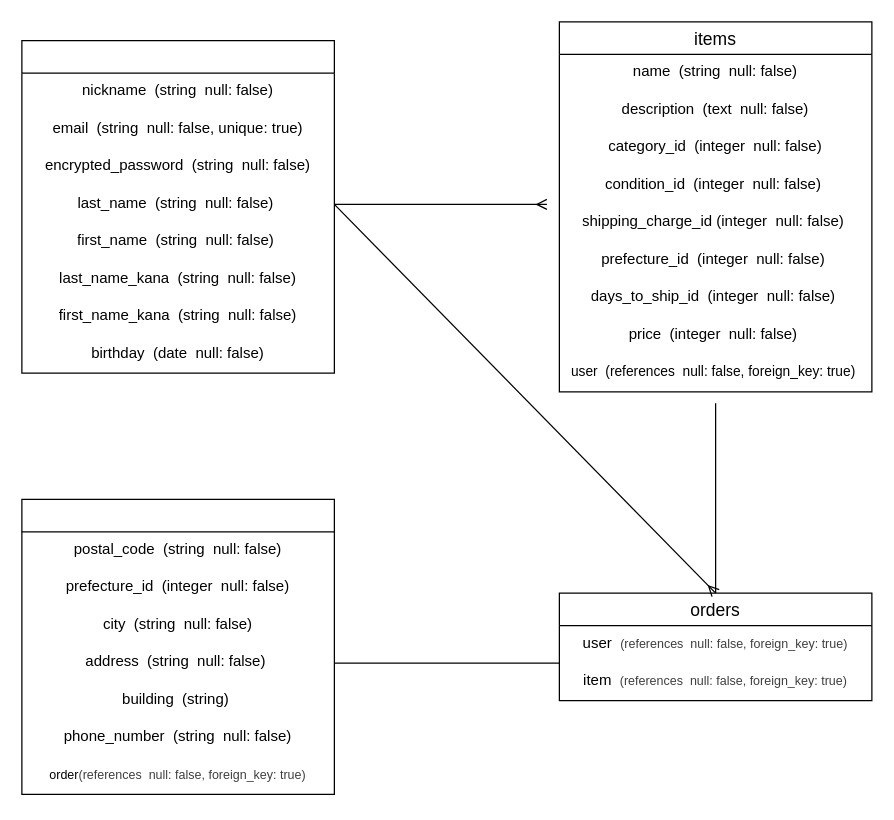
Some shapes in this 894 by 820 pixel diagram are drawn without their labels. The shapes that lost their labels are listed below. From the top down, each one's box as (x1, y1, x2, y2) in pixels, then its label:
(21, 39, 334, 373): users
(21, 498, 334, 794): shipping_addresses
